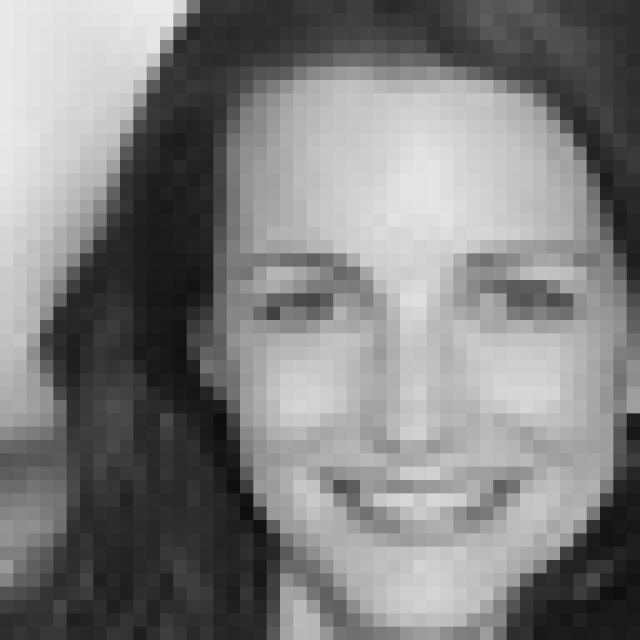happy: (243, 242, 609, 558)
